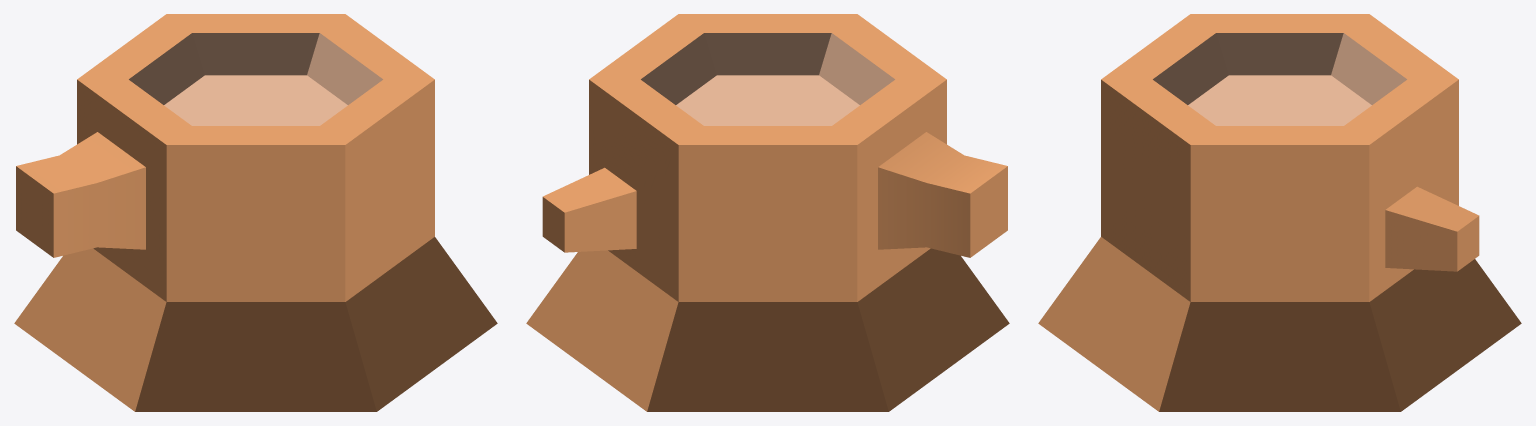
Rendered from treeStump_round_side.obj.
The picture shows the model from 3 angles, left to right: view 1: azimuth 30°, elevation 25°; view 2: azimuth 150°, elevation 25°; view 3: azimuth 270°, elevation 25°; orthographic projection.
Visible parts, largest first — view 1: treeStump_round_side; view 2: treeStump_round_side; view 3: treeStump_round_side.
Boxes of the visible parts, left/top/right/bottom form: treeStump_round_side: left=14, top=14, right=497, bottom=411; treeStump_round_side: left=526, top=14, right=1009, bottom=411; treeStump_round_side: left=1038, top=14, right=1521, bottom=411.
Bounding box in the file's own units: 3.57 × 2.07 × 3.71.
